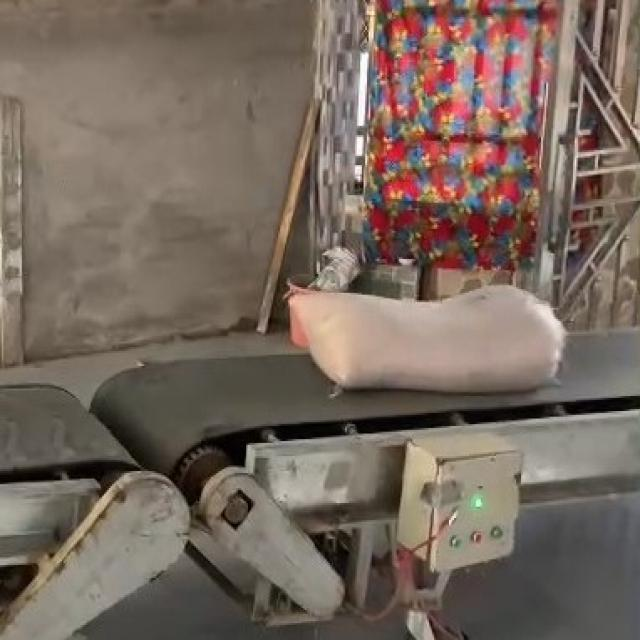gunny_bag: (290, 285, 568, 393)
